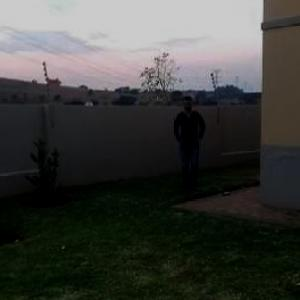follow: (173, 93, 208, 197)
